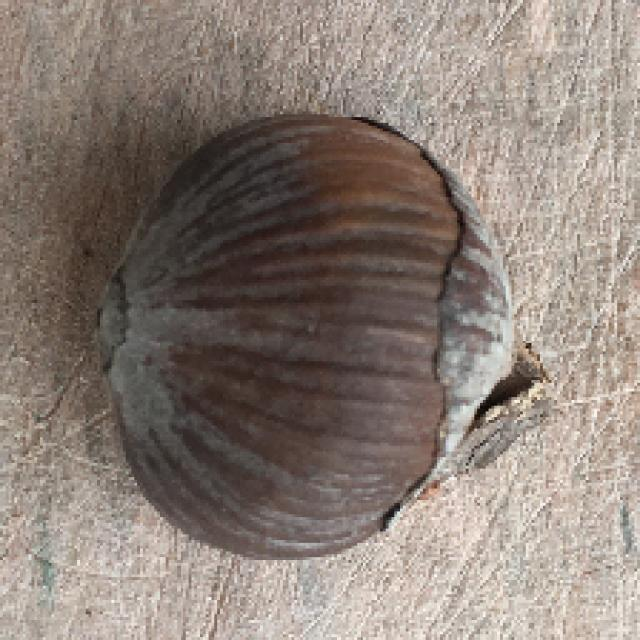DamagedHazelnut: (99, 120, 541, 558)
